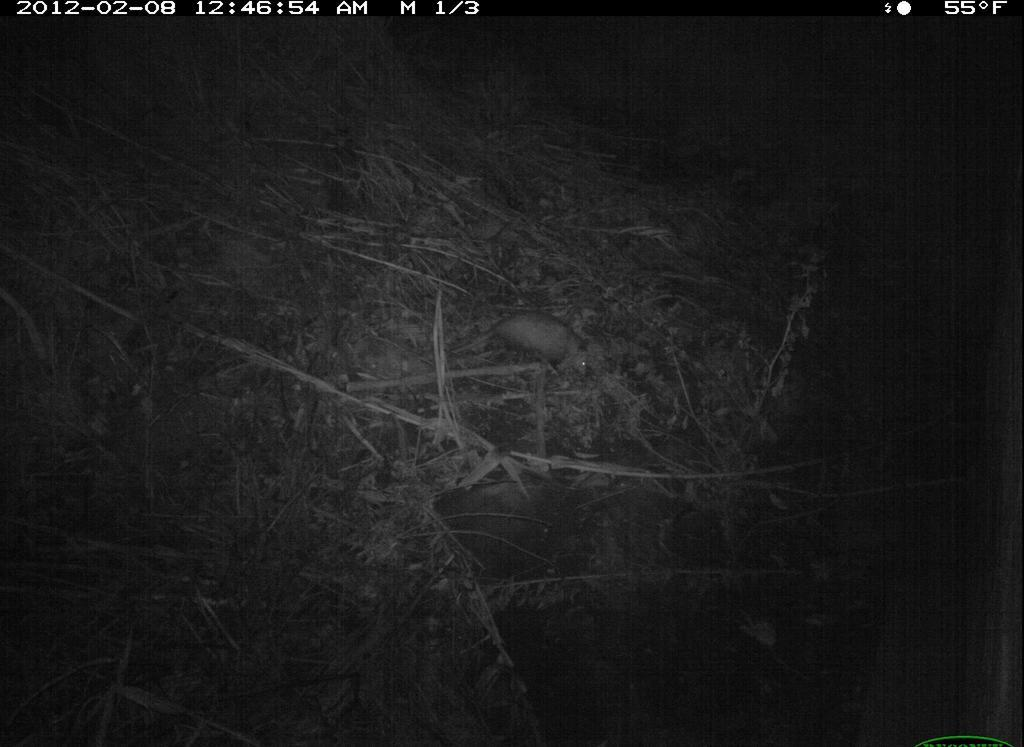opossum: (445, 307, 598, 386)
